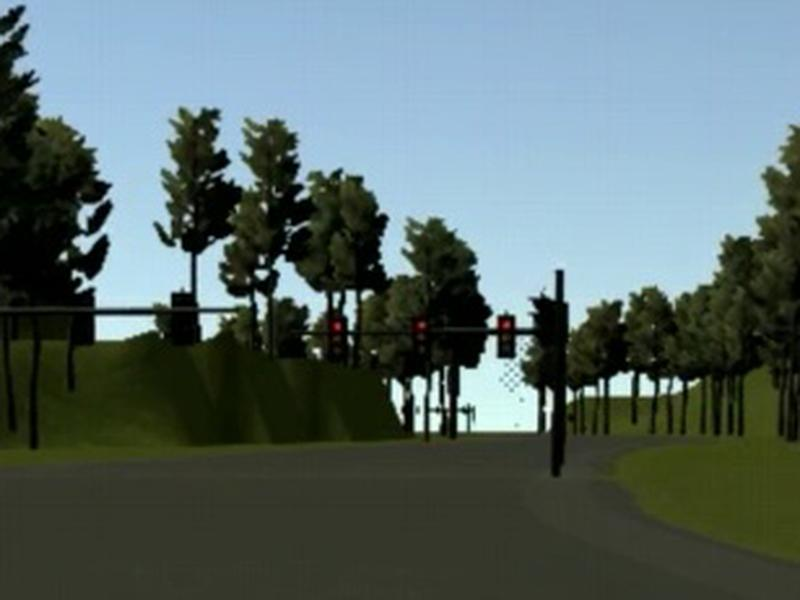Red: (496, 314, 515, 358), (328, 318, 346, 360), (412, 318, 430, 359)
